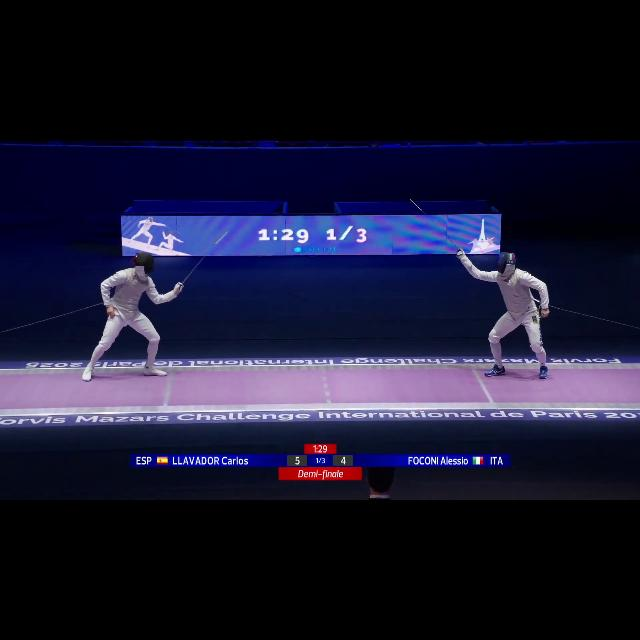blade: (174, 228, 232, 294), (407, 198, 468, 258)
